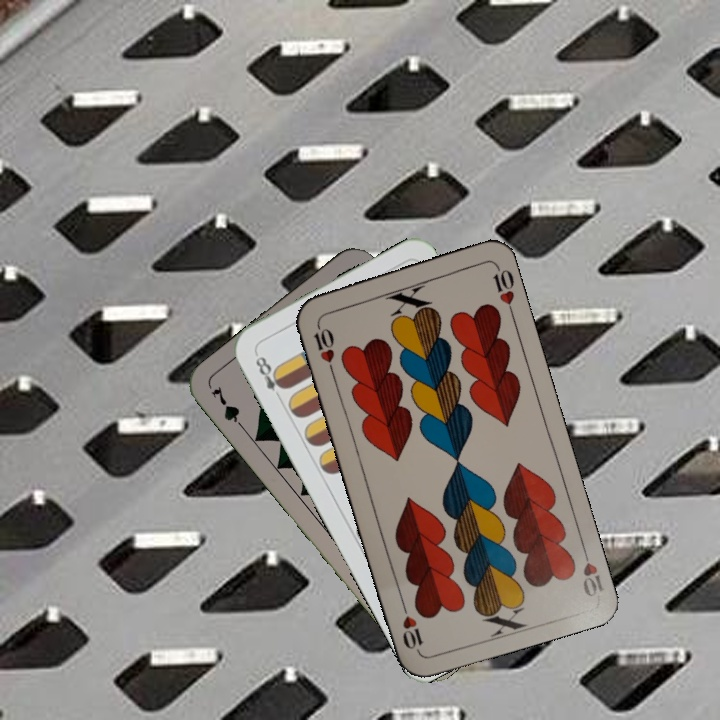E8: (251, 348, 289, 403)
G7: (207, 382, 249, 435)
H10: (577, 541, 606, 600), (310, 318, 337, 376)
